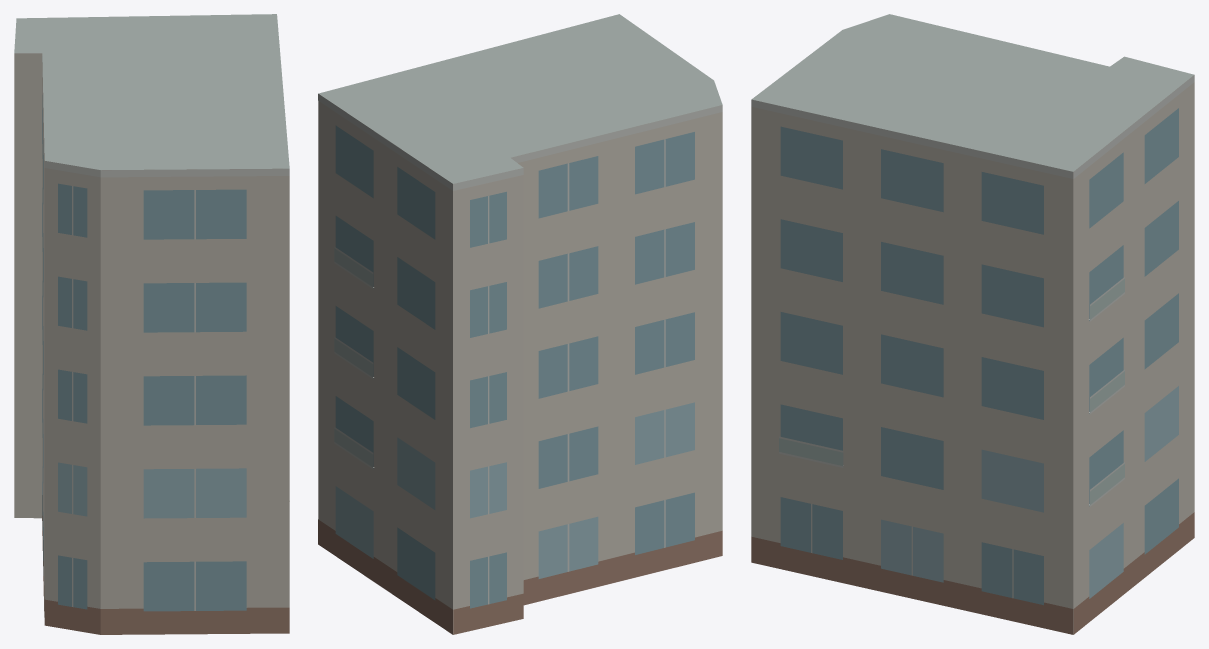
Rendered from survey-upis-32778582.glb.
The picture shows the model from 3 angles, left to right: view 1: azimuth 30°, elevation 25°; view 2: azimuth 150°, elevation 25°; view 3: azimuth 270°, elevation 25°; orthographic projection. The views are drawn at different scales.
Visible parts, largest first — view 1: survey-upis-32778582.tmp; view 2: survey-upis-32778582.tmp; view 3: survey-upis-32778582.tmp.
Boxes of the visible parts, <box> form: survey-upis-32778582.tmp: <box>14,14,289,634</box>; survey-upis-32778582.tmp: <box>318,14,722,634</box>; survey-upis-32778582.tmp: <box>751,14,1194,634</box>.
Bounding box in the file's own units: 11.45 × 15.65 × 13.58.
